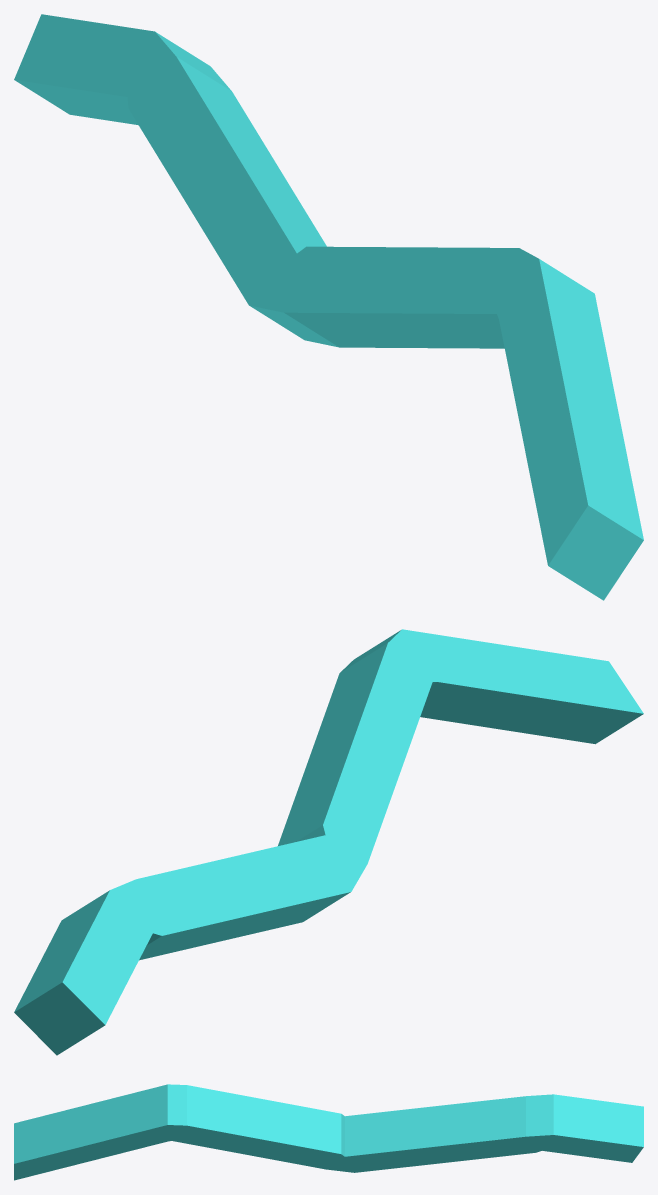
File: Old Bold.fbx
The picture shows the model from 3 angles, top to bottom: view 1: azimuth 30°, elevation 25°; view 2: azimuth 150°, elevation 25°; view 3: azimuth 270°, elevation 25°; orthographic projection. The views are drawn at different scales.
Parts seen in each view (by area): view 1: Cube; view 2: Cube; view 3: Cube.
Boxes of the visible parts, left/top/right/bottom form: Cube: left=14, top=14, right=643, bottom=600; Cube: left=14, top=629, right=643, bottom=1055; Cube: left=14, top=1084, right=643, bottom=1180.
Bounding box in the file's own units: 60.43 × 66.14 × 323.
